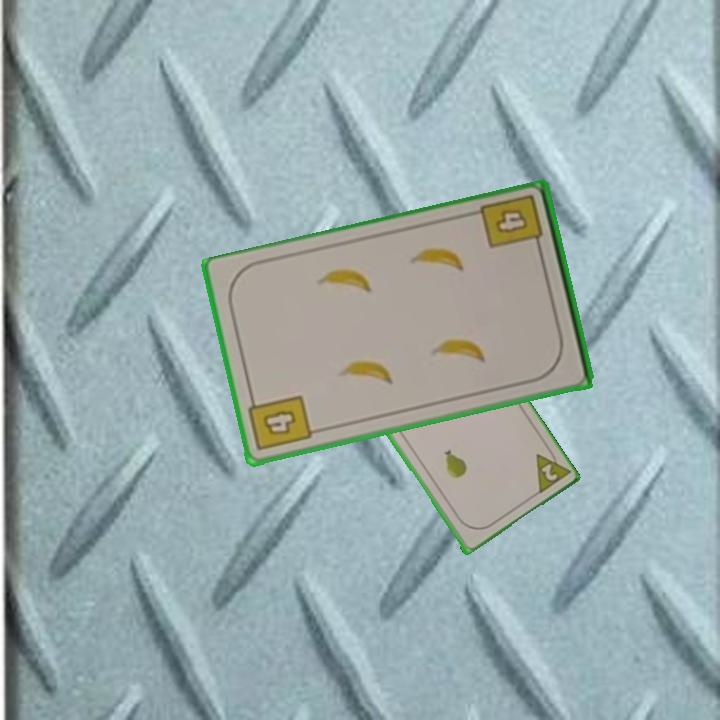2p: (532, 442, 572, 498)
4b: (477, 191, 546, 256), (245, 392, 315, 454)
